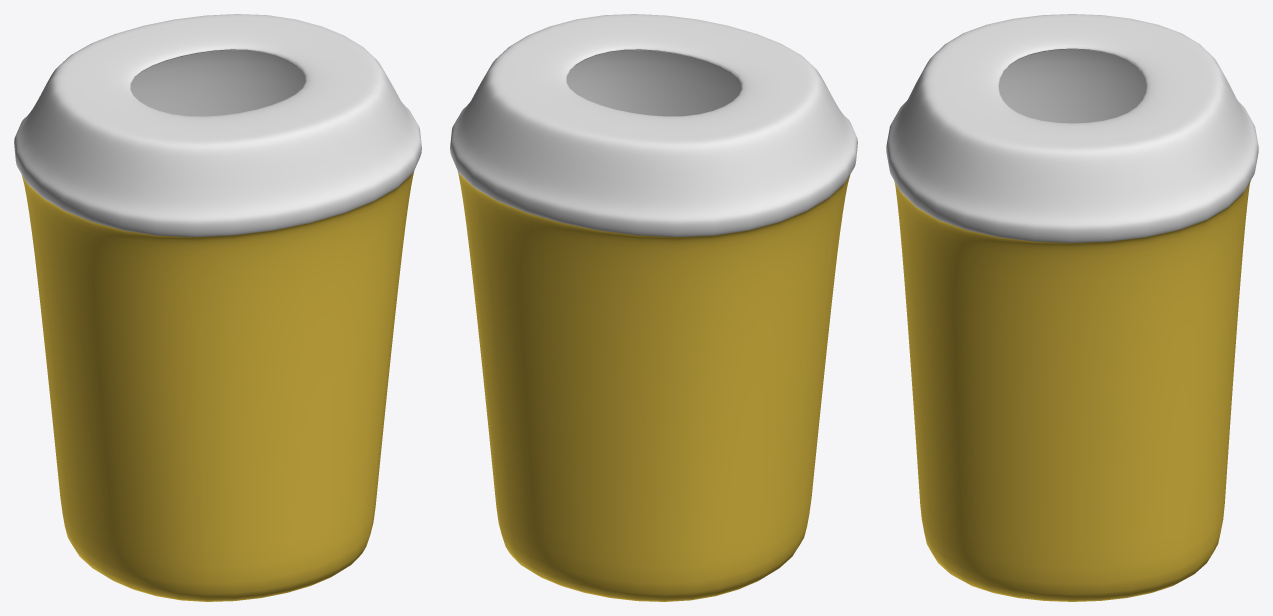
Rendered from NeedleBasket.fbx.
3 views of the same model, side by side, from view 1: azimuth 30°, elevation 25°; view 2: azimuth 150°, elevation 25°; view 3: azimuth 270°, elevation 25° (orthographic).
Visible parts, largest first — view 1: Cube; view 2: Cube; view 3: Cube.
Boxes of the visible parts, bbox=[...] form: Cube: bbox=[14, 14, 421, 601]; Cube: bbox=[450, 14, 857, 601]; Cube: bbox=[886, 14, 1258, 601].
Size of the model in its own units: 50.74 by 63.99 by 46.41.
